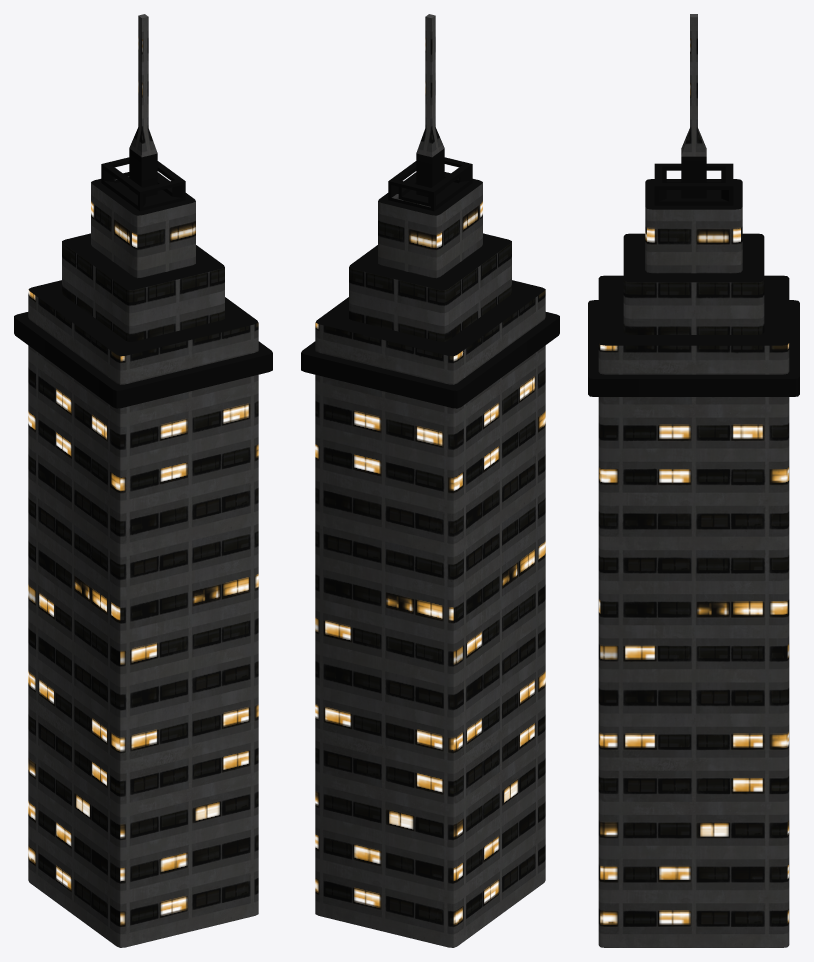
The model's file is Building_2.fbx.
3 renders of one model, left to right at view 1: azimuth 30°, elevation 25°; view 2: azimuth 150°, elevation 25°; view 3: azimuth 270°, elevation 25°, orthographic.
Visible parts, largest first — view 1: Building 1; view 2: Building 1; view 3: Building 1.
Boxes of the visible parts, x1=… form: Building 1: x1=14, y1=14, x2=272, y2=947; Building 1: x1=301, y1=14, x2=559, y2=947; Building 1: x1=588, y1=14, x2=799, y2=947.
Size of the model in its own units: 34.4 by 182 by 38.99.
